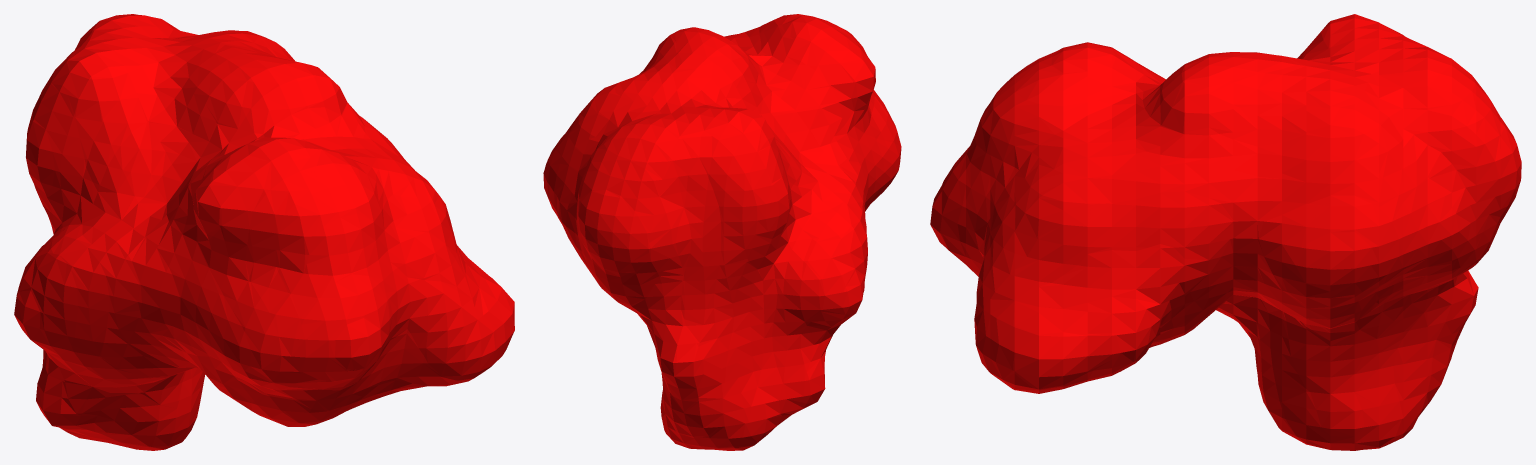
Rendered from panD_coarse.dae.
The picture shows the model from 3 angles, left to right: view 1: azimuth 30°, elevation 25°; view 2: azimuth 150°, elevation 25°; view 3: azimuth 270°, elevation 25°; orthographic projection. The views are drawn at different scales.
Parts seen in each view (by area): view 1: panD; view 2: panD; view 3: panD.
Part boxes in pixels (bbox=[...]): panD: bbox=[14, 14, 514, 450]; panD: bbox=[543, 14, 901, 450]; panD: bbox=[930, 14, 1521, 450].
Size of the model in its own units: 46.52 by 48.28 by 61.82.
